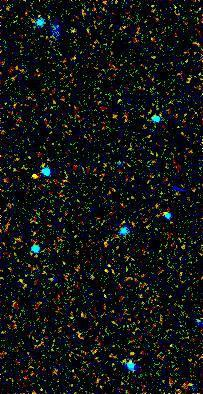star: (18, 160, 48, 190)
